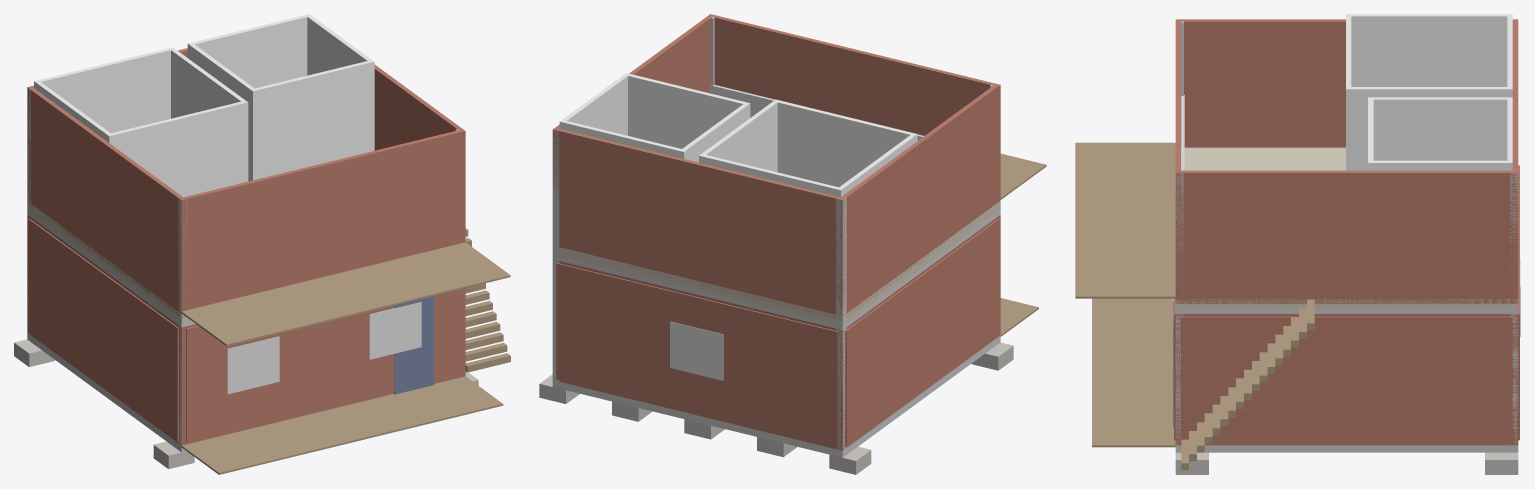
File: Duplex-20-Base-OxidisedRed-LOD0.glb
3 views of the same model, side by side, from view 1: azimuth 30°, elevation 25°; view 2: azimuth 150°, elevation 25°; view 3: azimuth 270°, elevation 25° (orthographic). The views are drawn at different scales.
Parts seen in each view (by area): view 1: ExteriorShellUpper, ExteriorPanelsStandard, StudyUpper, BedroomUpper, BalconyUpper, BalconyGround, WindowsStandard, StaircaseExternal, ExteriorShell, EntryDoor, FoundationBlocks, FloorUpper (+3 smaller); view 2: ExteriorShellUpper, ExteriorPanelsStandard, BedroomUpper, StudyUpper, FloorUpper, VerticalStructure, FoundationBlocks, BaseFrame, ExteriorShell, WindowsStandard, TopFrame, BalconyUpper (+2 smaller); view 3: ExteriorShellUpper, ExteriorPanelsStandard, BalconyUpper, BedroomUpper, BalconyGround, StudyUpper, FloorUpper, StaircaseExternal, ExteriorShell, BaseFrame, VerticalStructure, TopFrame (+1 smaller).
Boxes of the visible parts, <box> form: ExteriorShellUpper: <box>27,48,465,317</box>; ExteriorPanelsStandard: <box>28,218,461,442</box>; StudyUpper: <box>187,14,374,181</box>; BedroomUpper: <box>34,47,248,196</box>; BalconyUpper: <box>181,242,510,346</box>; BalconyGround: <box>181,376,503,474</box>; WindowsStandard: <box>227,302,421,394</box>; StaircaseExternal: <box>465,228,510,372</box>; ExteriorShell: <box>27,215,465,445</box>; EntryDoor: <box>394,296,433,394</box>; FoundationBlocks: <box>14,339,478,469</box>; FloorUpper: <box>27,201,190,322</box>; ExteriorShellUpper: <box>552,14,1000,318</box>; ExteriorPanelsStandard: <box>556,219,999,447</box>; BedroomUpper: <box>699,99,917,197</box>; StudyUpper: <box>559,73,750,162</box>; FloorUpper: <box>558,201,1000,325</box>; VerticalStructure: <box>552,17,998,449</box>; FoundationBlocks: <box>539,342,1013,474</box>; BaseFrame: <box>552,335,1000,457</box>; ExteriorShell: <box>556,215,1000,450</box>; WindowsStandard: <box>670,321,723,380</box>; TopFrame: <box>555,210,1000,329</box>; BalconyUpper: <box>1000,153,1046,199</box>; ExteriorShellUpper: <box>1175,19,1518,303</box>; ExteriorPanelsStandard: <box>1174,165,1519,443</box>; BalconyUpper: <box>1075,142,1175,298</box>; BedroomUpper: <box>1346,14,1512,170</box>; BalconyGround: <box>1092,298,1175,447</box>; StudyUpper: <box>1368,97,1512,170</box>; FloorUpper: <box>1175,147,1518,308</box>; StaircaseExternal: <box>1181,299,1314,470</box>; ExteriorShell: <box>1175,314,1518,445</box>; BaseFrame: <box>1175,445,1518,452</box>; VerticalStructure: <box>1175,21,1518,445</box>; TopFrame: <box>1175,309,1518,313</box>.
Size of the model in its own units: 7.94 by 6 by 8.
